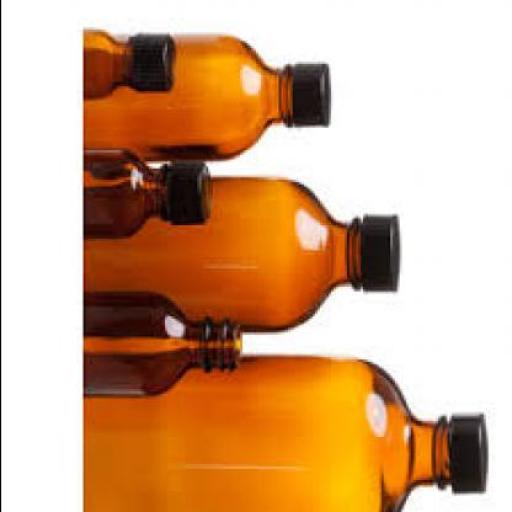glass: (86, 355, 451, 510), (86, 177, 362, 330), (84, 34, 294, 159), (86, 292, 241, 394), (84, 148, 168, 236), (84, 27, 132, 96)
plastic: (448, 412, 492, 491), (166, 160, 214, 224), (364, 214, 403, 291), (291, 62, 333, 126), (134, 34, 176, 88)
